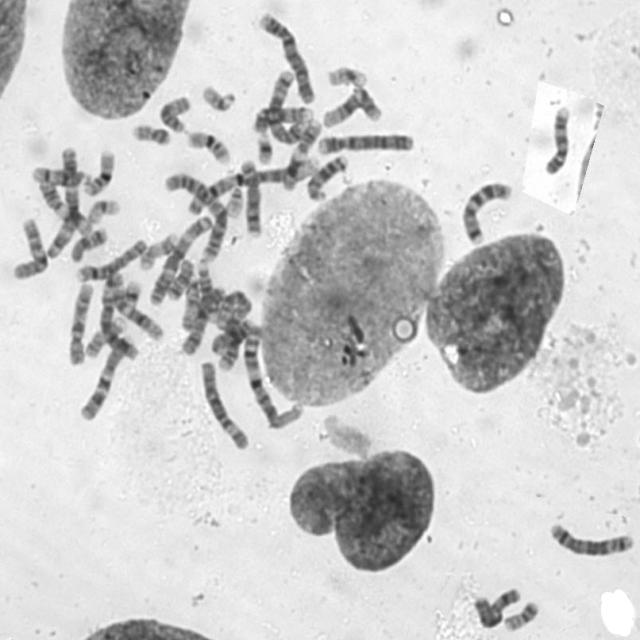A1: (180, 153, 321, 218), (240, 325, 307, 431)
A2: (160, 168, 230, 263), (212, 284, 256, 373)
A3: (145, 211, 214, 306), (42, 140, 80, 261)
B4: (255, 7, 318, 105), (313, 125, 418, 156)
B5: (263, 64, 310, 146), (546, 517, 635, 557)
C10: (64, 278, 96, 366), (9, 212, 49, 280)
C11: (36, 176, 94, 236), (279, 117, 325, 192)
C12: (105, 280, 166, 342), (320, 83, 384, 129)
C6: (196, 355, 252, 452), (98, 268, 140, 362)
C7: (75, 328, 134, 422), (458, 176, 516, 246)
C8: (72, 233, 150, 283), (237, 154, 264, 238)
C9: (541, 100, 573, 176), (249, 102, 315, 134)
D13: (304, 150, 351, 202), (208, 315, 258, 355)
D14: (199, 251, 235, 324), (28, 161, 92, 187)
D15: (155, 90, 193, 134), (178, 276, 202, 333)
E16: (182, 126, 234, 166), (80, 144, 118, 197)
E17: (81, 314, 127, 360), (135, 227, 179, 272)
E18: (66, 222, 110, 263), (163, 255, 196, 300)
F19: (323, 60, 370, 90), (84, 194, 122, 227)
F20: (500, 595, 542, 633), (128, 119, 172, 147)
G21: (252, 127, 276, 165), (120, 275, 144, 308)
G22: (198, 79, 239, 114), (222, 182, 246, 218)
X: (173, 283, 223, 360), (470, 582, 523, 630)
